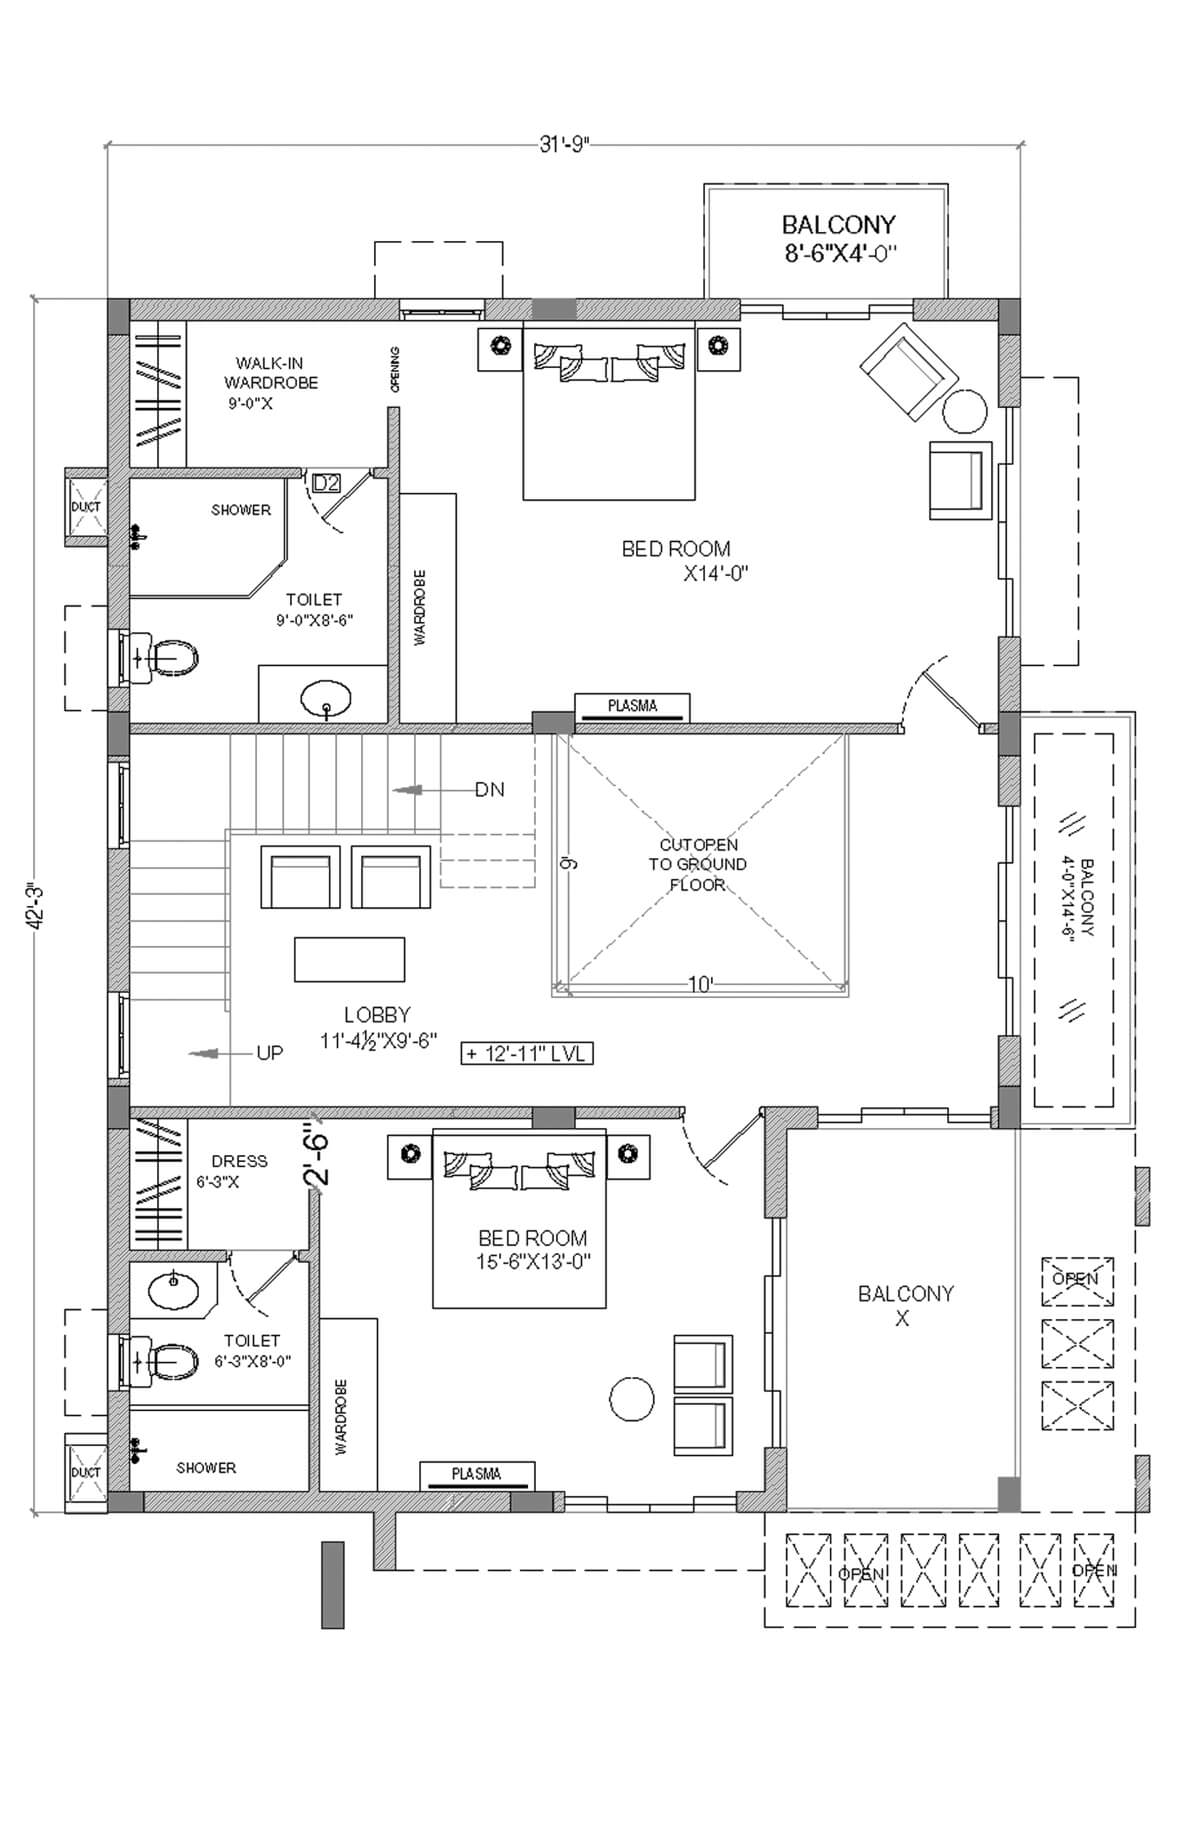room: (133, 728, 1004, 1111), (384, 295, 1021, 734), (308, 1104, 789, 1510)
